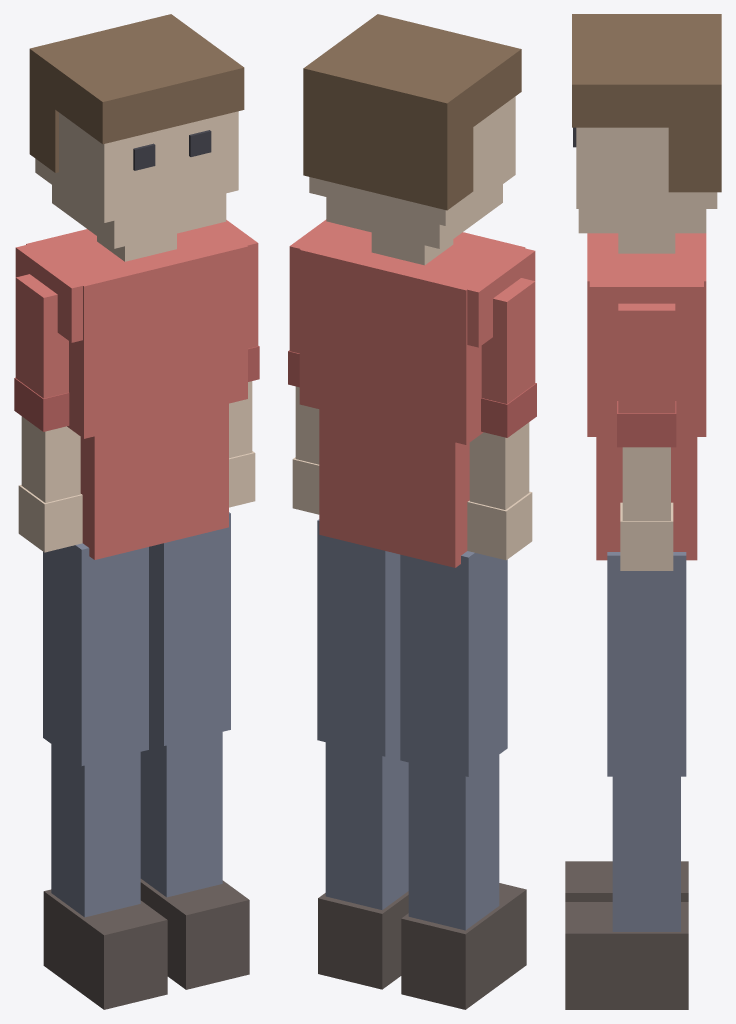
Rendered from character_a.glb.
3 views of the same model, side by side, from view 1: azimuth 30°, elevation 25°; view 2: azimuth 150°, elevation 25°; view 3: azimuth 270°, elevation 25° (orthographic). The views are drawn at different scales.
Parts seen in each view (by area): view 1: chest, thigh_l, hair_top, waist, thigh_r, head, shin_l, shin_r, shoe_l, shoe_r, upper_l, jaw (+8 smaller); view 2: chest, thigh_l, hair_top, waist, thigh_r, hair_back, shin_l, shin_r, shoe_l, shoe_r, head, upper_l (+8 smaller); view 3: hair_top, thigh_r, shoe_r, chest, shin_r, head, upper_r, waist, shoulders, hair_back, fore_r, jaw (+4 smaller).
Part boxes in pixels (x1,y1,x2,y2): chest: [26, 224, 247, 438]; thigh_l: [43, 543, 148, 765]; hair_top: [29, 14, 244, 144]; waist: [80, 403, 228, 559]; thigh_r: [149, 512, 230, 745]; head: [35, 111, 238, 222]; shin_l: [51, 744, 140, 917]; shin_r: [140, 732, 222, 897]; shoe_l: [43, 889, 167, 1009]; shoe_r: [140, 879, 249, 989]; upper_l: [15, 274, 68, 398]; jaw: [52, 185, 226, 248]; chest: [299, 223, 525, 444]; thigh_l: [400, 551, 507, 776]; hair_top: [303, 14, 521, 145]; waist: [319, 409, 469, 567]; thigh_r: [317, 519, 400, 756]; hair_back: [303, 90, 473, 210]; shin_l: [408, 755, 499, 930]; shin_r: [325, 742, 408, 909]; shoe_l: [401, 883, 526, 1009]; shoe_r: [318, 891, 408, 989]; head: [309, 96, 515, 225]; upper_l: [481, 278, 535, 403]; hair_top: [572, 14, 721, 127]; thigh_r: [607, 552, 686, 776]; shoe_r: [565, 902, 688, 1009]; chest: [587, 233, 706, 436]; shin_r: [612, 776, 680, 931]; head: [576, 127, 717, 208]; upper_r: [618, 303, 675, 413]; waist: [596, 437, 697, 560]; shoulders: [589, 281, 703, 342]; hair_back: [668, 106, 721, 192]; fore_r: [622, 447, 670, 520]; jaw: [578, 209, 706, 233].
Bounding box in the file's own units: 46.4 × 186 × 28.4.
